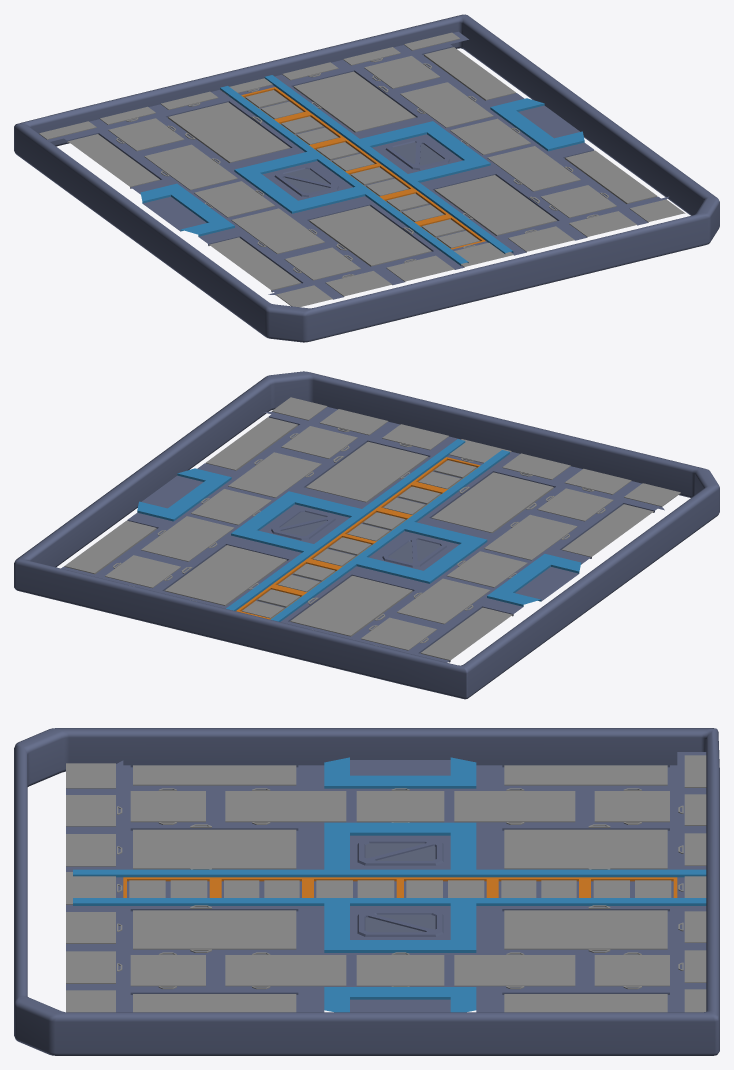
File: Ground.fbx
3 views of the same model, one above another, from view 1: azimuth 30°, elevation 25°; view 2: azimuth 150°, elevation 25°; view 3: azimuth 270°, elevation 25° (orthographic). The views are drawn at different scales.
Parts seen in each view (by area): view 1: Ground; view 2: Ground; view 3: Ground.
Part boxes in pixels (<box>): Ground: <box>14,14,719,342</box>; Ground: <box>14,371,719,699</box>; Ground: <box>14,728,719,1055</box>.
Size of the model in its own units: 5612 by 366 by 5750.
